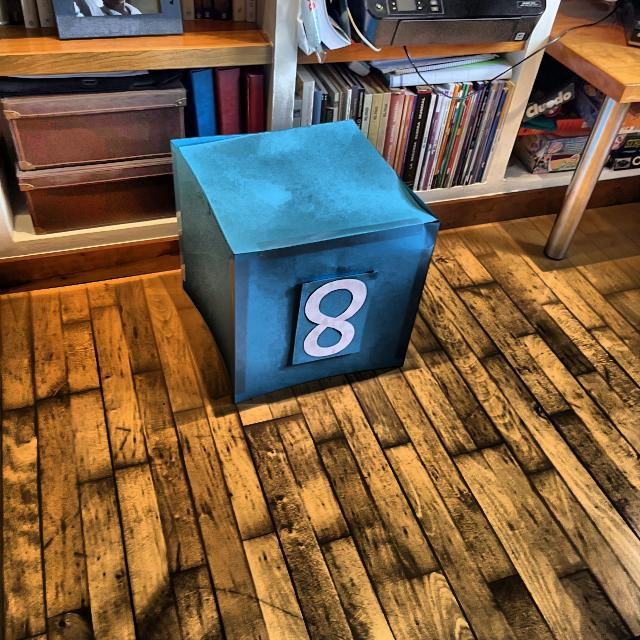blue box: (169, 115, 438, 408)
eight: (300, 274, 368, 360)
